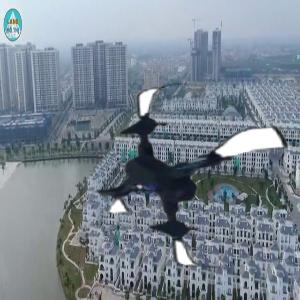drone: (92, 74, 295, 277)
